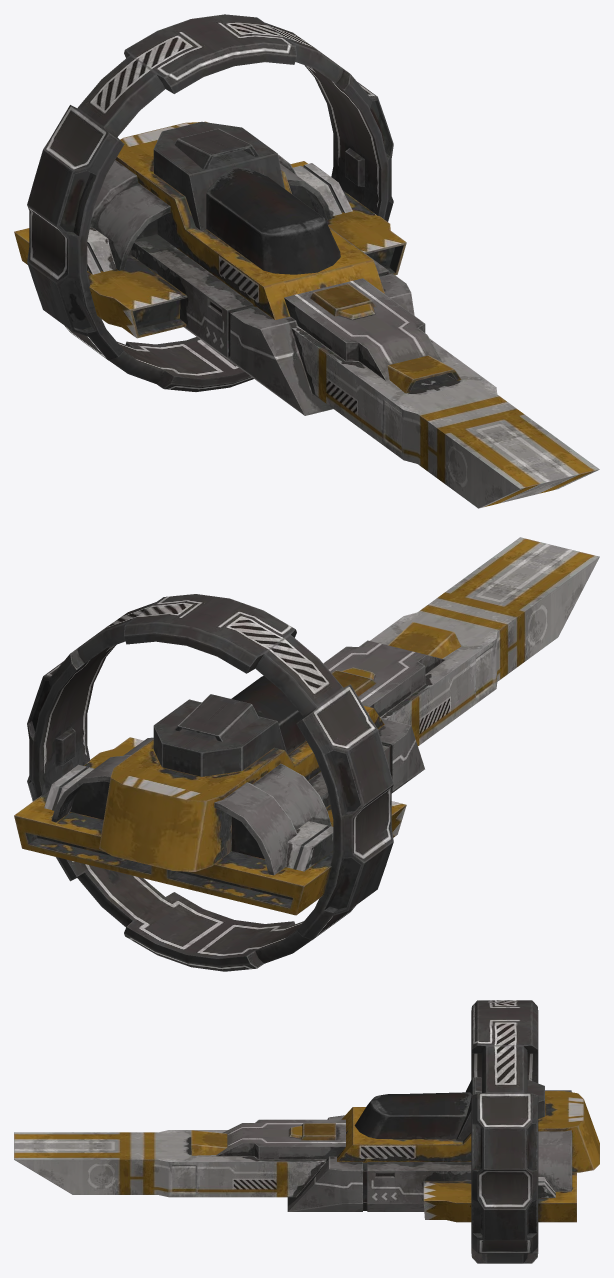
The model's file is Zenith.3b3b1de99c.glb.
The picture shows the model from 3 angles, top to bottom: view 1: azimuth 30°, elevation 25°; view 2: azimuth 150°, elevation 25°; view 3: azimuth 270°, elevation 25°; orthographic projection. The views are drawn at different scales.
Visible parts, largest first — view 1: Zenith; view 2: Zenith; view 3: Zenith.
Part boxes in pixels (x1,y1,x2,y2): Zenith: [14, 14, 599, 508]; Zenith: [14, 537, 599, 971]; Zenith: [14, 1000, 599, 1263].
Bounding box in the file's own units: 5.63 × 5.43 × 12.07.
1 material, 1 textured.
